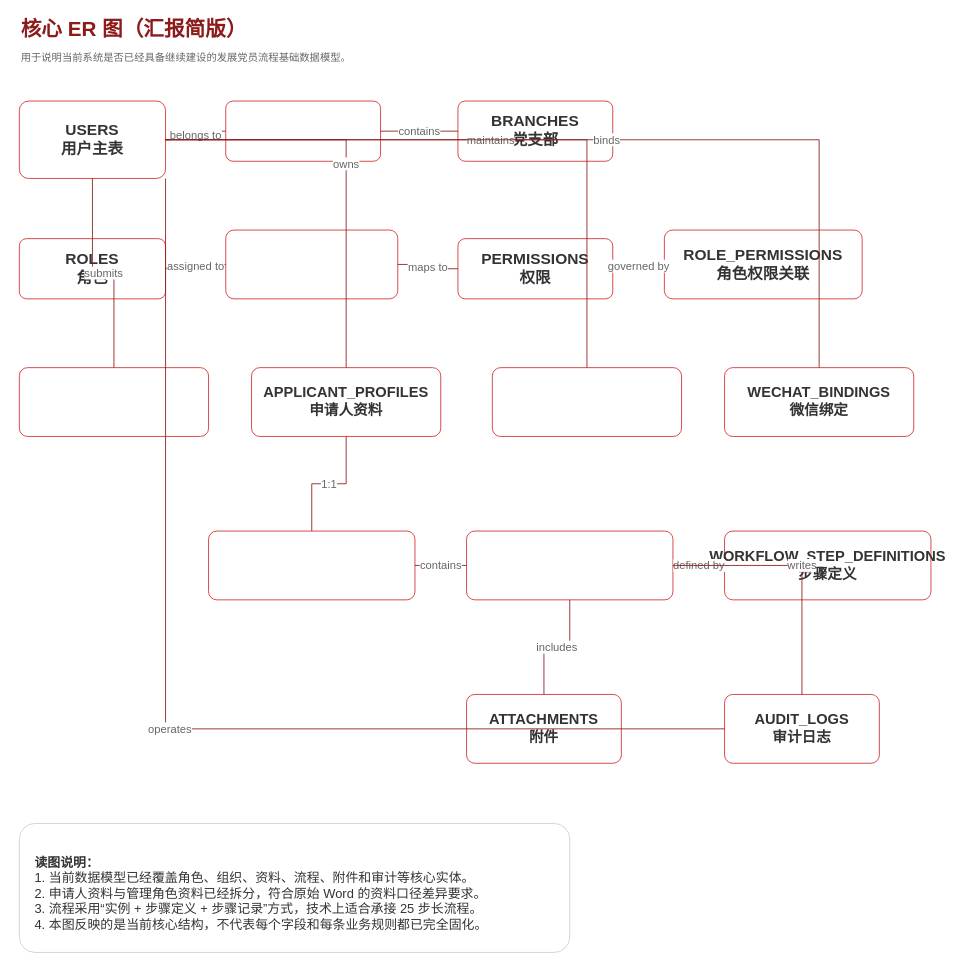
The diagram is 961 pixels wide and 968 high, and some of its shapes have lost their labels. The centre of each missing label's shape, as x and y in pixels:
"ORG_UNITS 二级单位" goes at pixel 303 130.
"REGISTRATION_REQUESTS 注册申请" goes at pixel 113 401.
"USER_PROFILES 管理角色资料" goes at pixel 586 401.
"USER_ROLES 用户角色关联" goes at pixel 311 264.
"WORKFLOW_INSTANCES 流程实例" goes at pixel 311 565.
"WORKFLOW_STEP_RECORDS 步骤记录" goes at pixel 569 565.
